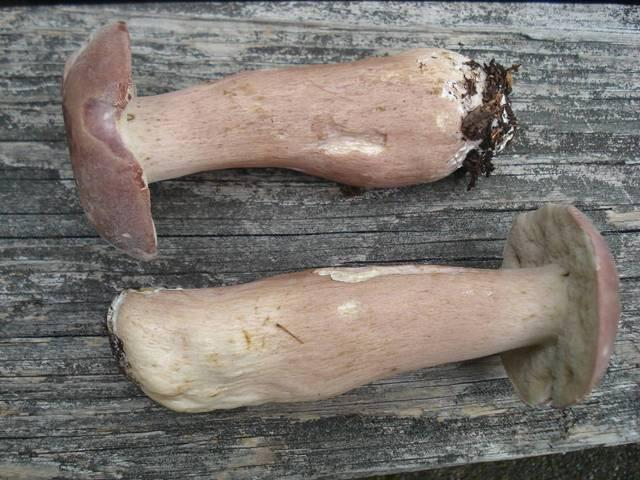poisonous_mushroom: (59, 19, 521, 260), (104, 201, 621, 414)
